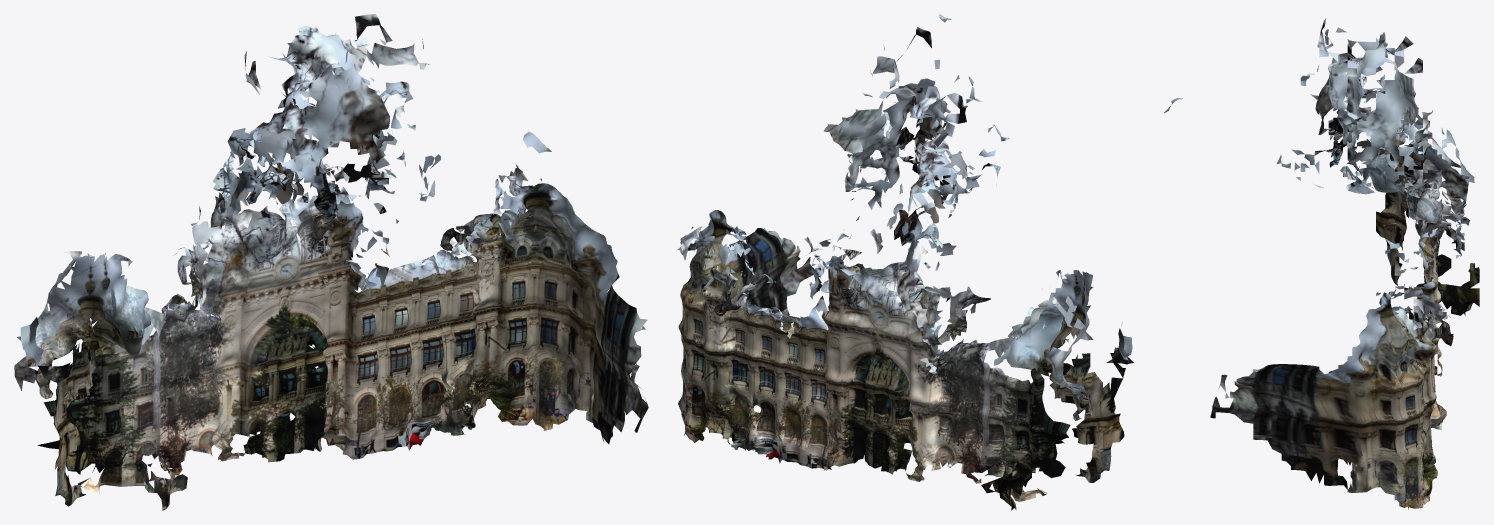
File: Correos.fbx
3 views of the same model, side by side, from view 1: azimuth 30°, elevation 25°; view 2: azimuth 150°, elevation 25°; view 3: azimuth 270°, elevation 25° (orthographic). The views are drawn at different scales.
Parts seen in each view (by area): view 1: Node.001; view 2: Node.001; view 3: Node.001.
Part boxes in pixels (left/top/right/bottom): Node.001: left=14, top=14, right=648, bottom=510; Node.001: left=677, top=14, right=1133, bottom=510; Node.001: left=1164, top=18, right=1479, bottom=509.
Bounding box in the file's own units: 6423 × 5591 × 3991.
Materials: 9 (9 with a texture image).
